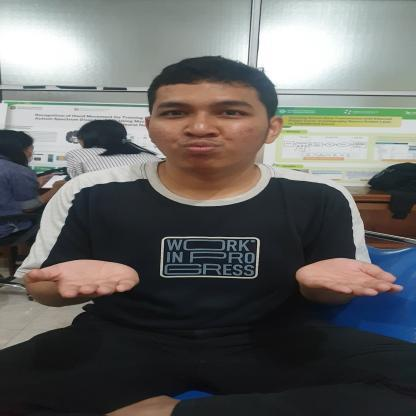Apa: (26, 253, 399, 306)
